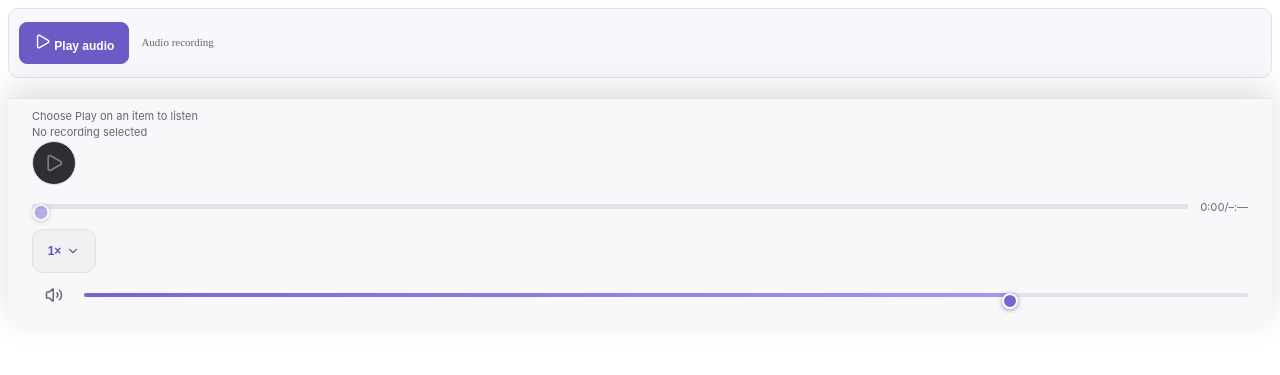
Test: persistent audio › reports rejected play without optimistic playing and recovers on explicit Retry
Click the button with aria-label "Play First recording": (74, 43) [19,22,129,64]
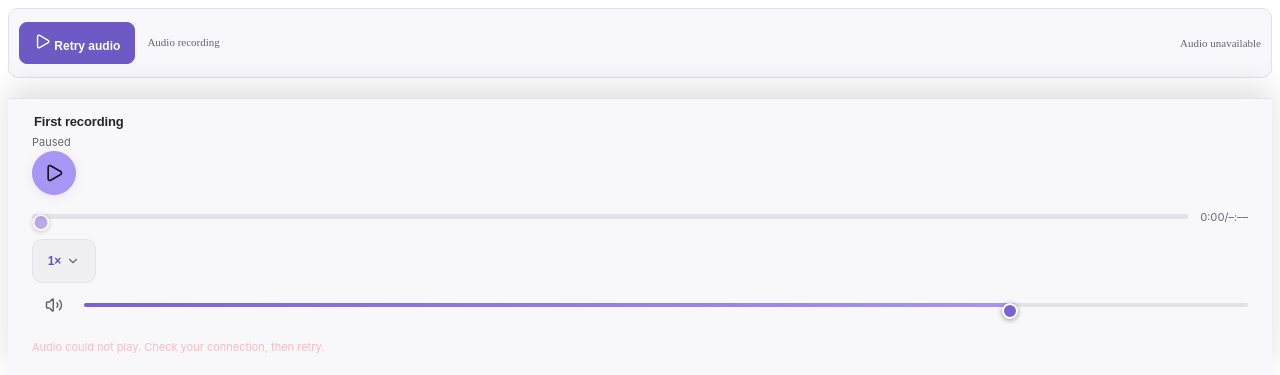
Expected: the button "Pause audio" is not shown
Expected: the message "Audio could not play. Check your connection, then retry." is shown, [32,340,324,354]
Click the button named "Retry audio": (54, 173) [32,151,76,195]
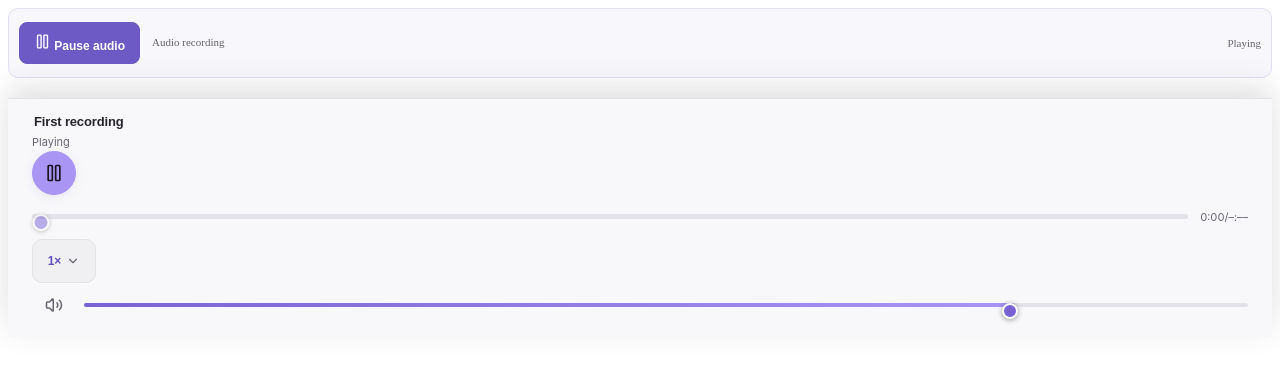
Expected: the button named "Pause audio" is shown, [32,151,76,195]
Expected: the message "Audio could not play. Check your connection, then retry." is gone
